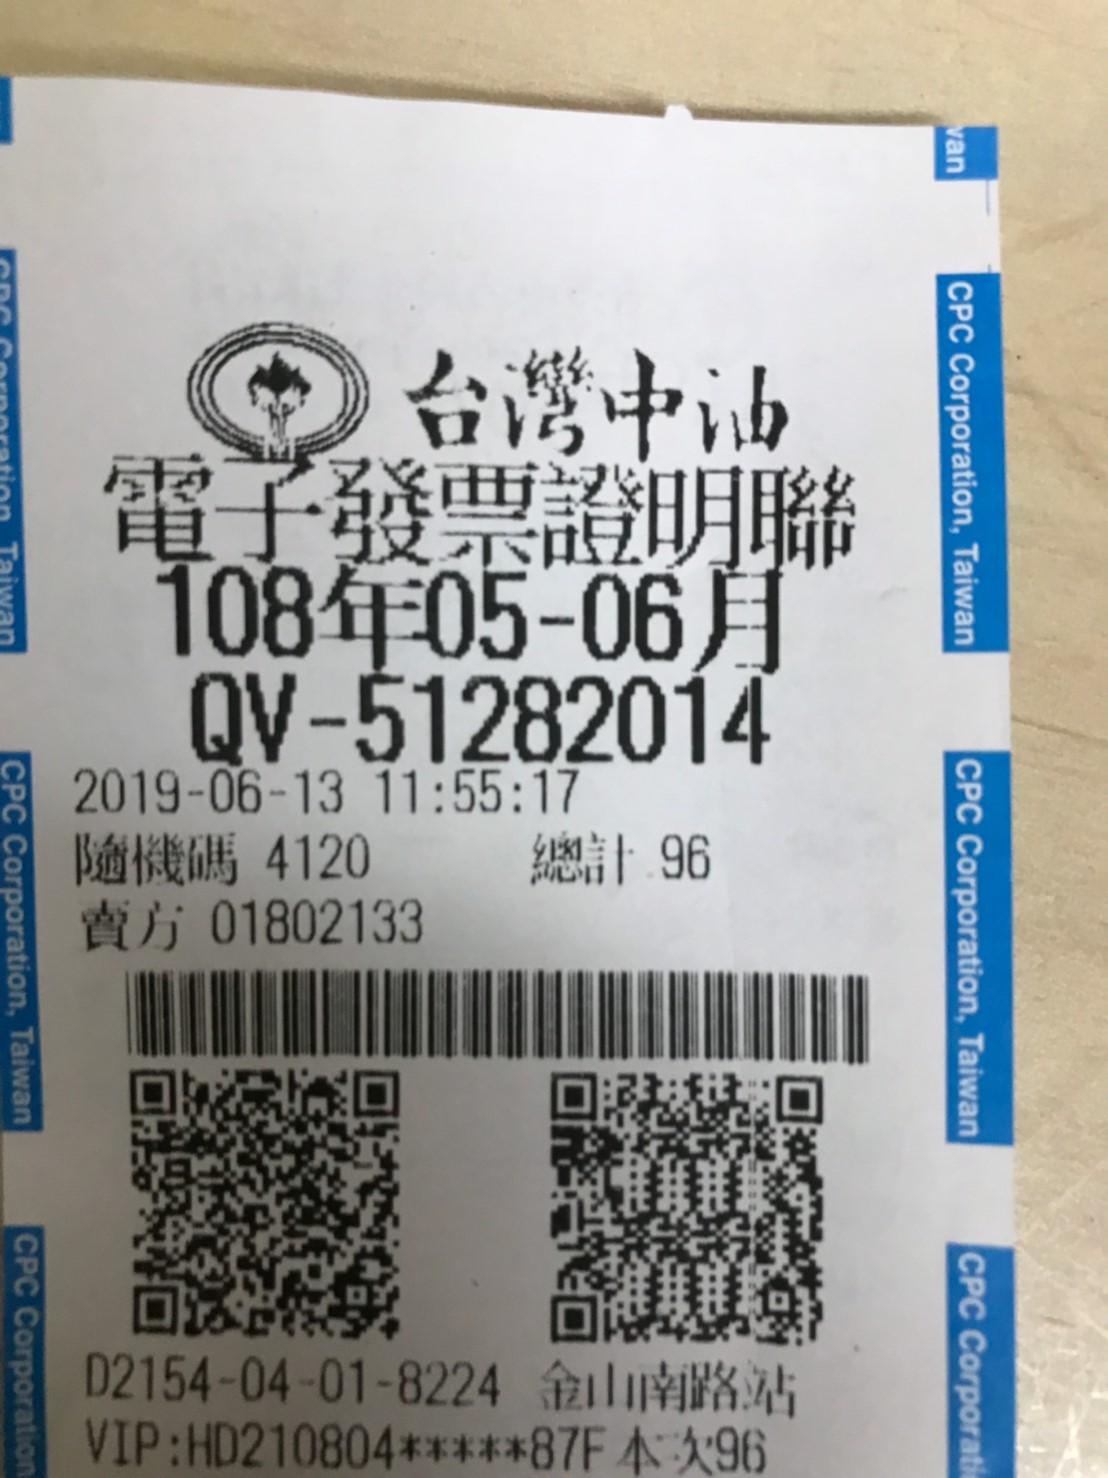Date_New: (155, 562, 783, 678)
Number_New: (353, 673, 770, 765)
